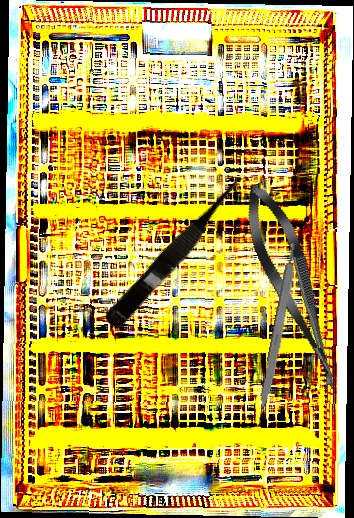Micro Scissor: (233, 177, 353, 397), (101, 168, 255, 335)
Scalpel Handle: (257, 242, 302, 412)
